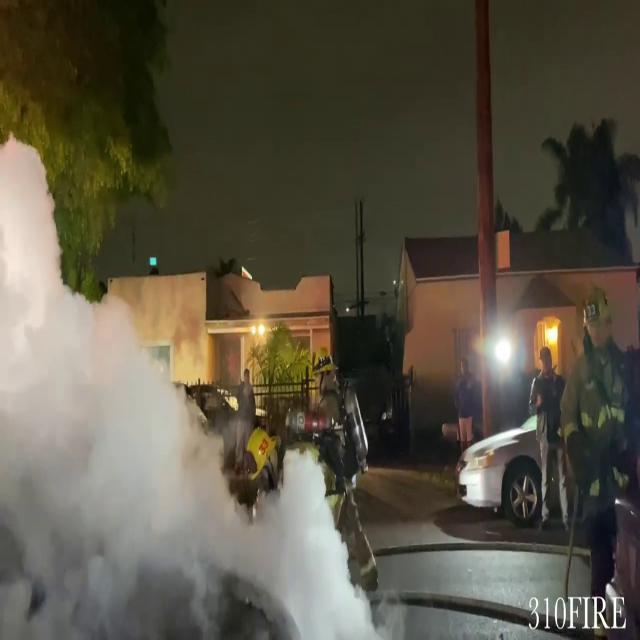Smoke: (0, 307, 399, 640)
